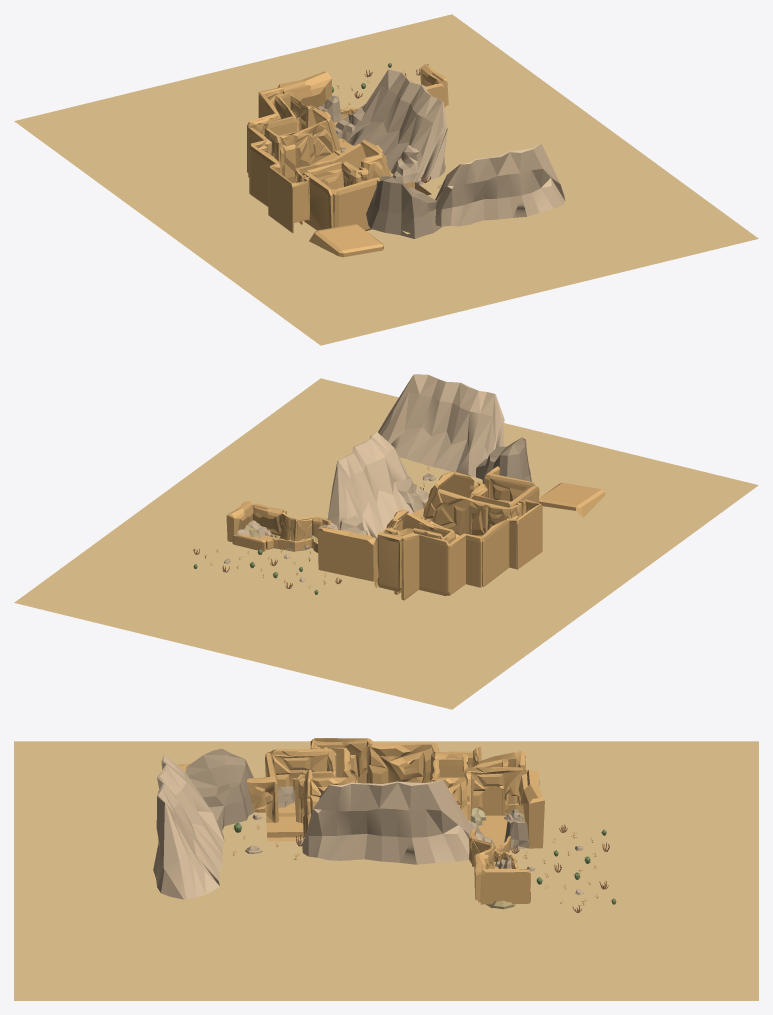
File: DesertMap.fbx
3 views of the same model, one above another, from view 1: azimuth 30°, elevation 25°; view 2: azimuth 150°, elevation 25°; view 3: azimuth 270°, elevation 25° (orthographic). The views are drawn at different scales.
Parts seen in each view (by area): view 1: Plane.004, Hill_desert_003.002, Plane, Stone_mid_001.010, Hill_desert_003.001, Hill_desert_003.004, Hill_desert_003.003, Cube.018, Cube.052, Cube.025, Cube.006, Cube.017 (+8 smaller); view 2: Plane.004, Hill_desert_003.002, Plane, Cube.006, Plane.006, Hill_desert_003.003, Hill_desert_003.004, Cube.036, Stone_mid_001.010, Cube.030, Cube.045, Hill_desert_003.001 (+12 smaller); view 3: Plane.004, Plane, Hill_desert_003.002, Hill_desert_003.003, Hill_desert_003.001, Plane.006, Stone_mid_001.010, Hill_desert_003.004, Cube.030, Cube.041, Cube.017, Cube.050 (+10 smaller).
Boxes of the visible parts, x1,y1,x2,y2 form: Plane.004: (14, 14, 758, 345); Hill_desert_003.002: (435, 143, 565, 226); Plane: (415, 103, 592, 231); Stone_mid_001.010: (366, 176, 442, 238); Hill_desert_003.001: (387, 91, 447, 182); Hill_desert_003.004: (368, 78, 431, 163); Hill_desert_003.003: (345, 69, 407, 145); Cube.018: (326, 178, 376, 230); Cube.052: (309, 224, 385, 257); Cube.025: (268, 166, 293, 232); Cube.006: (277, 71, 331, 120); Cube.017: (302, 172, 333, 230); Plane.004: (14, 378, 758, 709); Hill_desert_003.002: (378, 374, 504, 476); Plane: (265, 422, 450, 519); Cube.006: (317, 526, 378, 581); Plane.006: (168, 525, 276, 576); Hill_desert_003.003: (327, 457, 382, 541); Hill_desert_003.004: (346, 439, 401, 530); Cube.036: (419, 534, 449, 595); Stone_mid_001.010: (476, 437, 531, 483); Cube.030: (481, 519, 509, 586); Cube.045: (424, 489, 472, 535); Hill_desert_003.001: (364, 431, 413, 513); Plane.004: (14, 741, 758, 1000); Plane: (144, 841, 477, 906); Hill_desert_003.002: (153, 755, 224, 899); Hill_desert_003.003: (400, 779, 472, 864); Hill_desert_003.001: (302, 783, 368, 860); Plane.006: (492, 880, 606, 922); Stone_mid_001.010: (185, 748, 254, 830); Hill_desert_003.004: (352, 781, 411, 862); Cube.030: (368, 742, 432, 783); Cube.041: (480, 868, 530, 904); Cube.017: (272, 748, 336, 792); Cube.050: (462, 767, 527, 815).
Size of the model in its own units: 26544 by 6167 by 32187.
